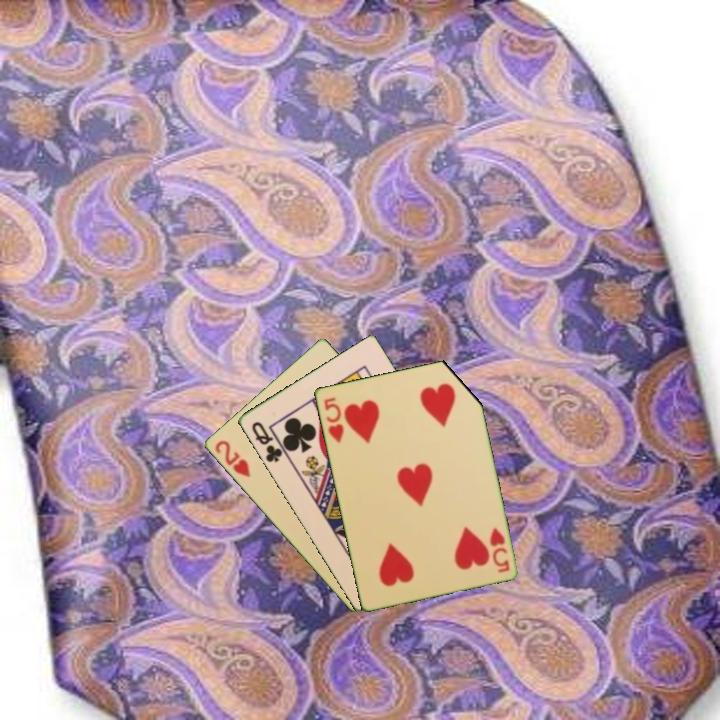2h: (211, 436, 253, 480)
5h: (320, 393, 346, 446), (486, 524, 512, 575)
Qc: (247, 417, 289, 465)
